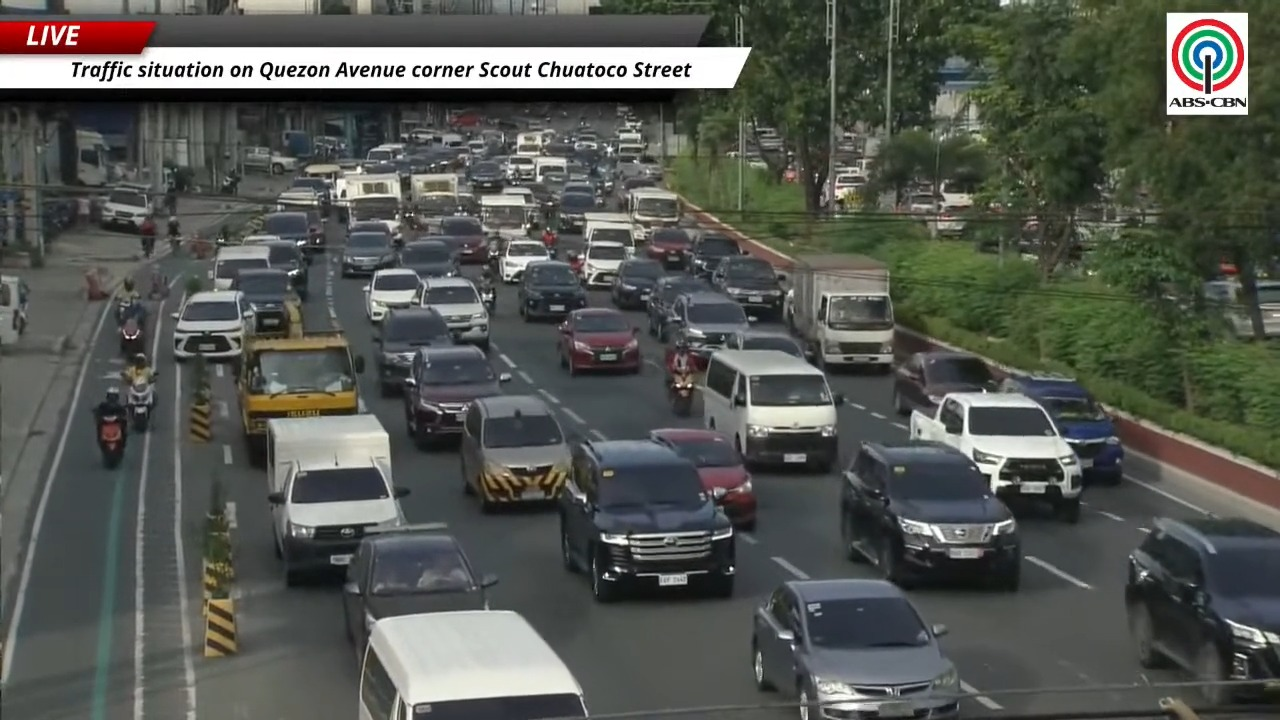car: (751, 580, 960, 719), (557, 439, 735, 602), (1125, 517, 1279, 705), (840, 440, 1021, 590), (343, 523, 496, 648), (1000, 373, 1124, 485), (460, 395, 569, 511), (650, 428, 757, 531), (404, 345, 510, 447), (373, 307, 452, 396), (893, 350, 997, 414), (659, 292, 750, 358), (414, 277, 489, 352), (172, 290, 251, 361), (558, 308, 642, 374), (711, 255, 783, 317), (517, 260, 588, 322), (230, 268, 297, 333), (646, 274, 711, 336), (364, 268, 420, 322), (262, 240, 309, 300), (611, 258, 664, 309), (101, 183, 155, 231), (341, 231, 395, 277), (260, 211, 322, 251), (725, 328, 806, 357), (398, 240, 459, 278), (689, 233, 741, 277), (498, 240, 550, 283), (439, 216, 486, 263), (581, 241, 629, 287), (645, 228, 692, 269), (558, 189, 596, 232), (467, 161, 505, 191), (562, 166, 597, 196), (347, 220, 393, 242)
motorcycle: (126, 378, 154, 432), (96, 415, 124, 468), (668, 372, 693, 416), (119, 316, 145, 358), (115, 298, 136, 325), (480, 284, 495, 315), (487, 239, 501, 271), (220, 171, 240, 193), (541, 230, 557, 257), (168, 230, 181, 255), (141, 236, 154, 258)
truck: (266, 414, 407, 585), (909, 392, 1083, 523), (237, 331, 364, 461), (783, 254, 894, 370), (23, 120, 115, 186), (340, 173, 403, 234), (408, 173, 458, 226), (583, 212, 644, 245), (410, 174, 458, 202)
